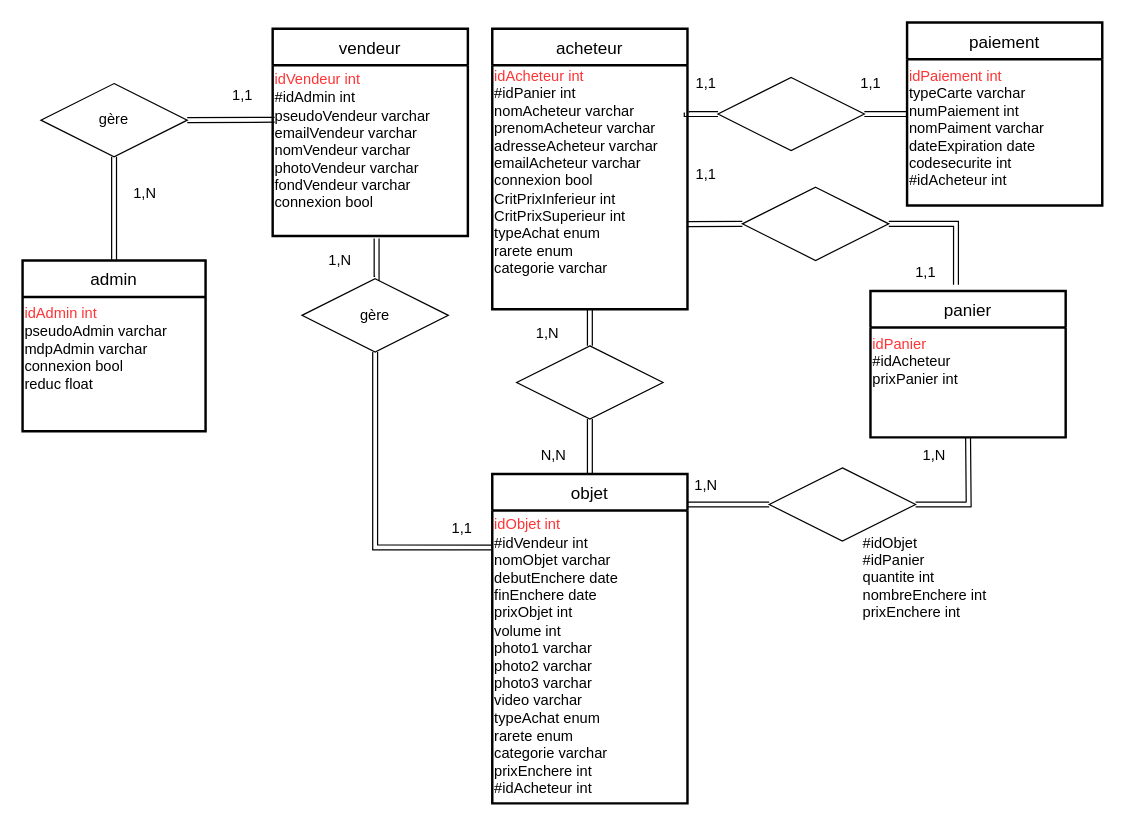
This 1124x825 diagram has some shape labels left out. The centre of each missing label's shape, as x and y in pixels:
"accède" goes at pixel 790 113.
"achète" goes at pixel 589 382.
"ajoutPanier" goes at pixel 842 504.
"possède" goes at pixel 815 223.
